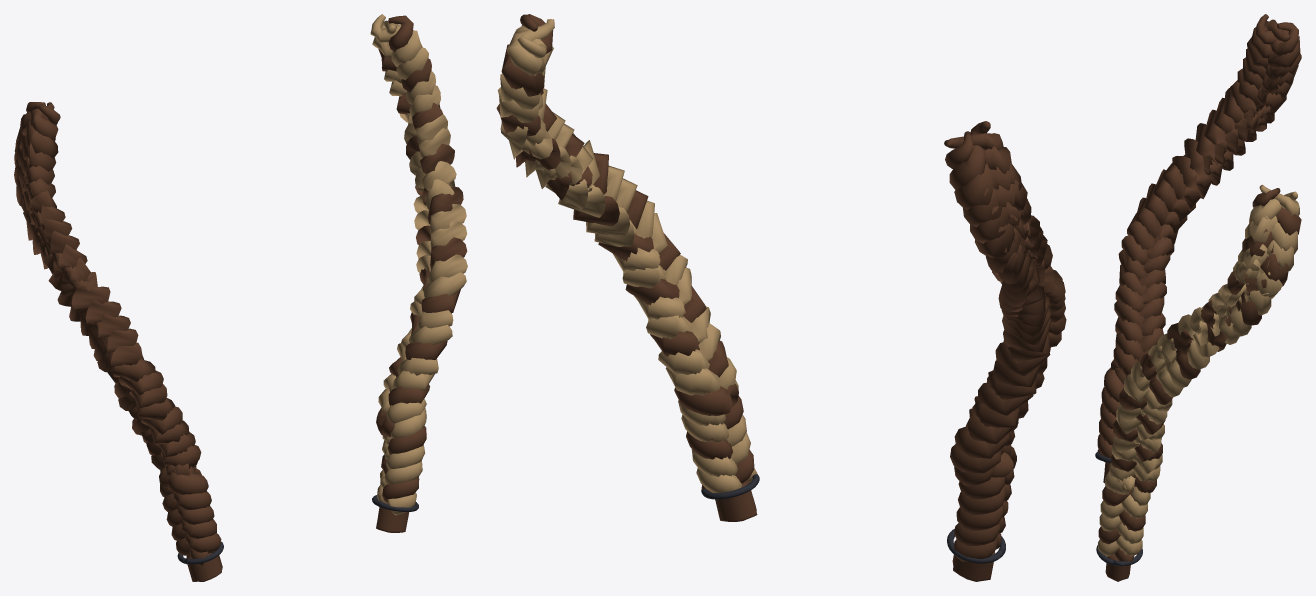
Rendered from Highlights-bdb24710fc33251-hair.glb.
The picture shows the model from 3 angles, left to right: view 1: azimuth 30°, elevation 25°; view 2: azimuth 150°, elevation 25°; view 3: azimuth 270°, elevation 25°; orthographic projection. The views are drawn at different scales.
Visible parts, largest first — view 1: 226 hairLengths / Hair / chestnut226, 226 hairLengths / Hair / ties226; view 2: 226 hairLengths / Hair / chestnut226, 226 hairLengths / Hair / ties226; view 3: 226 hairLengths / Hair / chestnut226, 226 hairLengths / Hair / ties226.
Boxes of the visible parts, x1=… form: 226 hairLengths / Hair / chestnut226: x1=14, y1=14, x2=467, y2=581; 226 hairLengths / Hair / ties226: x1=177, y1=495, x2=418, y2=564; 226 hairLengths / Hair / chestnut226: x1=496, y1=14, x2=1066, y2=581; 226 hairLengths / Hair / ties226: x1=701, y1=474, x2=1005, y2=563; 226 hairLengths / Hair / chestnut226: x1=1097, y1=14, x2=1301, y2=581; 226 hairLengths / Hair / ties226: x1=1095, y1=452, x2=1142, y2=566.
Size of the model in its own units: 1.03 by 1.06 by 0.4591.
